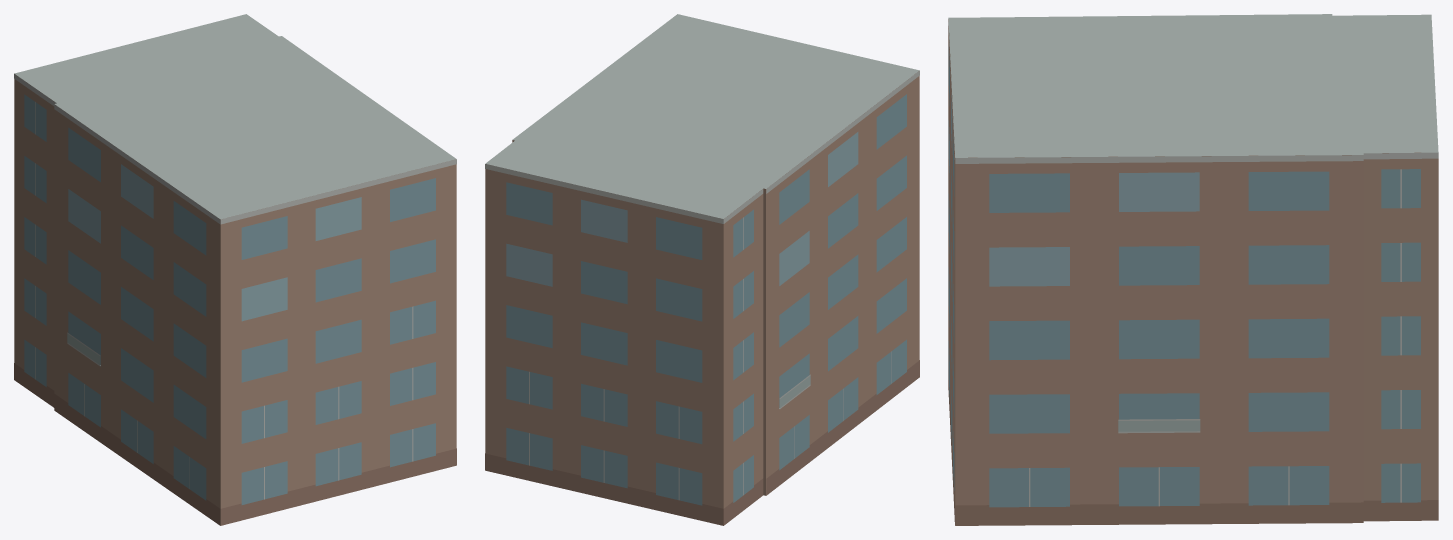
File: survey-upis-32741036.glb
3 renders of one model, left to right at view 1: azimuth 30°, elevation 25°; view 2: azimuth 150°, elevation 25°; view 3: azimuth 270°, elevation 25°, orthographic. The views are drawn at different scales.
Parts seen in each view (by area): view 1: survey-upis-32741036.tmp; view 2: survey-upis-32741036.tmp; view 3: survey-upis-32741036.tmp.
Boxes of the visible parts, <box> form: survey-upis-32741036.tmp: <box>14,14,456,525</box>; survey-upis-32741036.tmp: <box>485,14,919,525</box>; survey-upis-32741036.tmp: <box>948,14,1438,525</box>.
Bounding box in the file's own units: 12.34 × 14.7 × 17.75.
